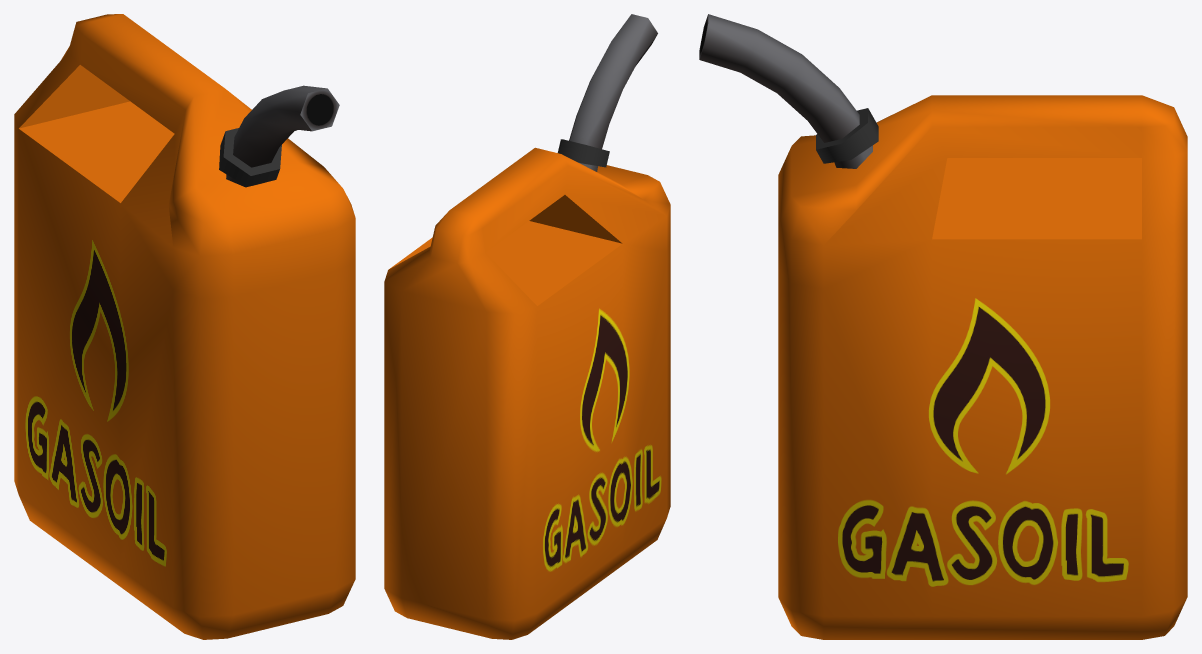
File: fuel.FBX
3 views of the same model, side by side, from view 1: azimuth 30°, elevation 25°; view 2: azimuth 150°, elevation 25°; view 3: azimuth 270°, elevation 25° (orthographic). The views are drawn at different scales.
Visible parts, largest first — view 1: ChamferBox001; view 2: ChamferBox001; view 3: ChamferBox001.
Boxes of the visible parts, x1=… form: ChamferBox001: x1=14, y1=14, x2=355, y2=639; ChamferBox001: x1=384, y1=14, x2=670, y2=639; ChamferBox001: x1=699, y1=14, x2=1187, y2=639.
Size of the model in its own units: 7.18 by 22.23 by 16.56.
